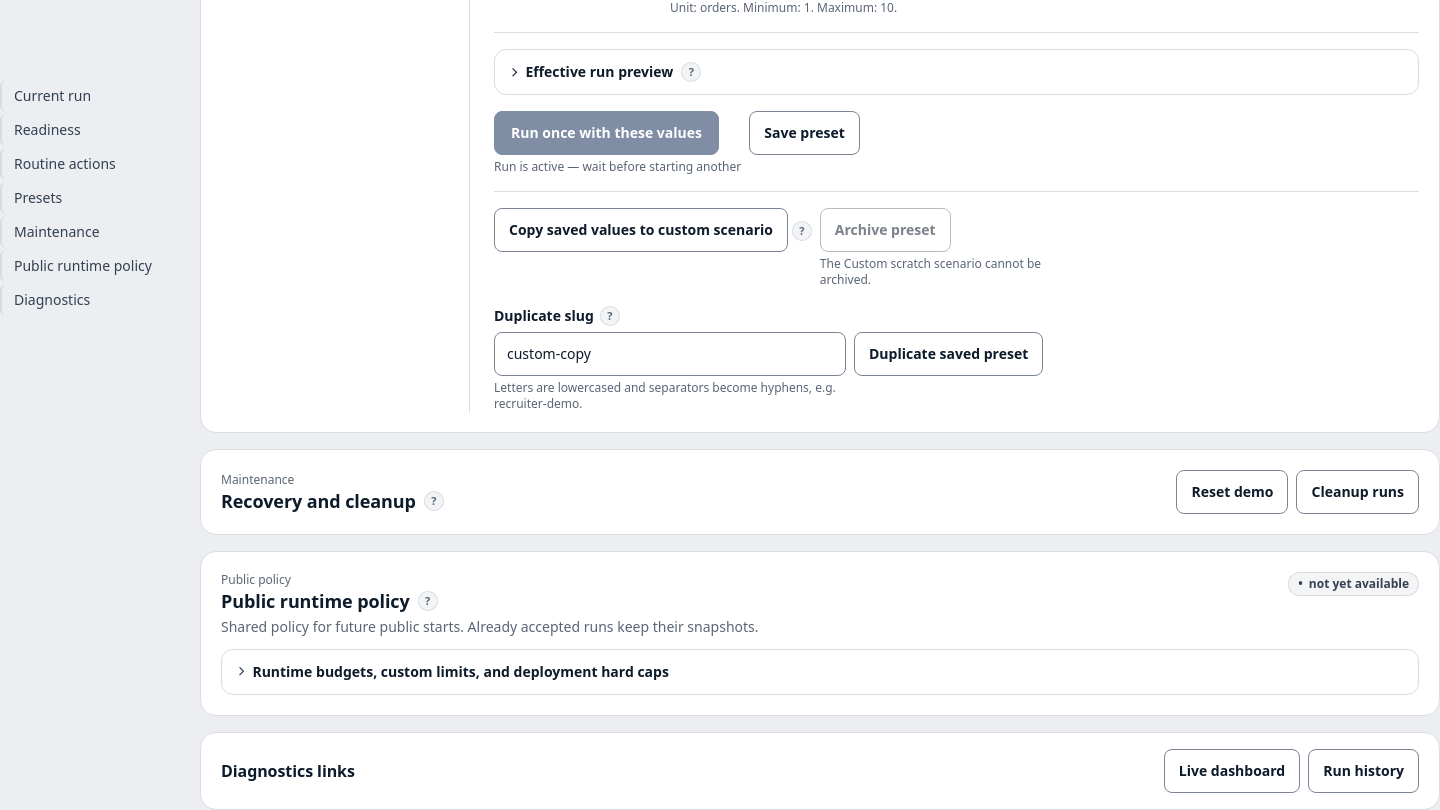
Scenario: admin feature controllers › reconciles recovery even when the reset response is unavailable
(page scrolled)
Click the button "Reset demo" at coordinates (1232, 492), box [1176,470,1288,514]
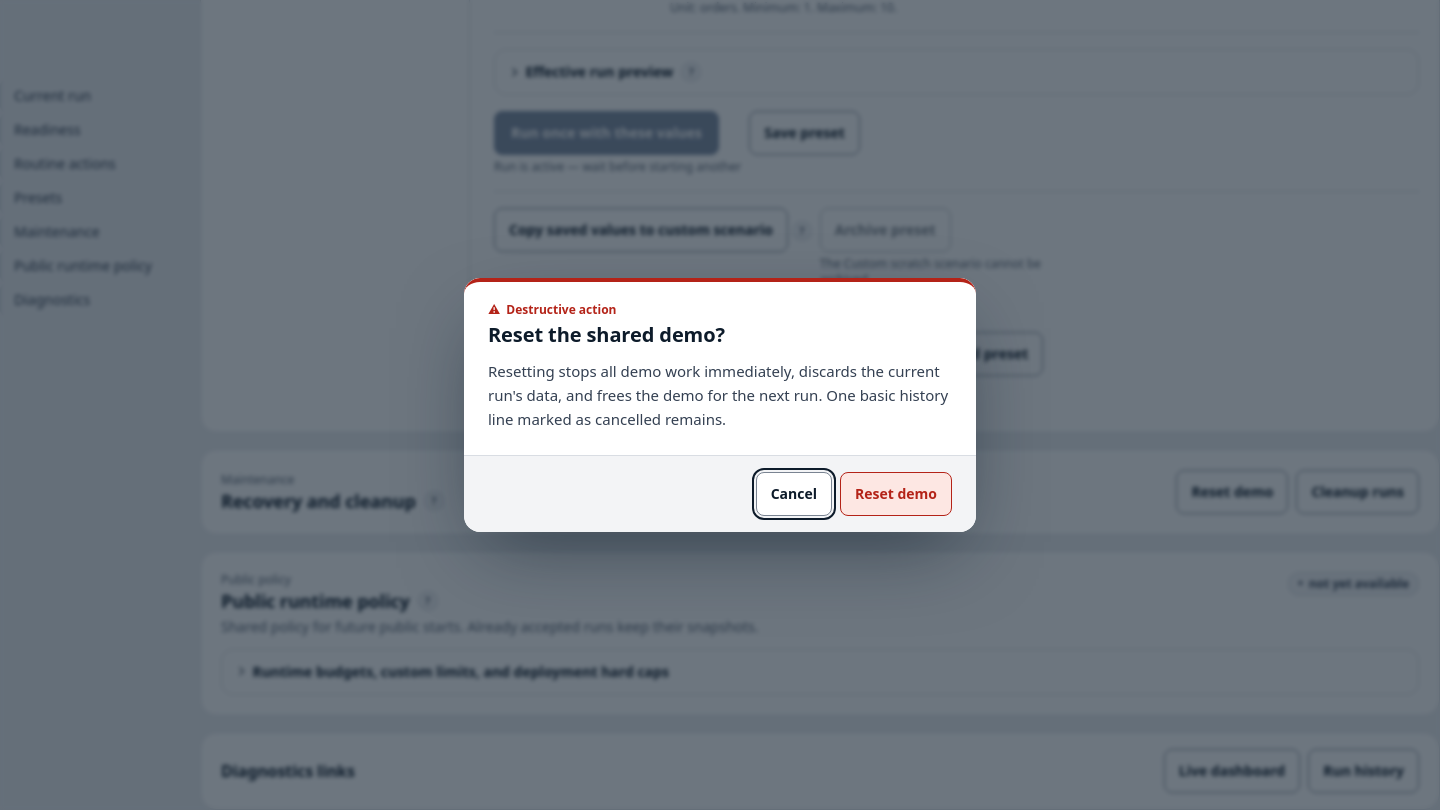
Click the button "Reset demo" at coordinates (896, 494), box [840,472,952,516]
(page scrolled)
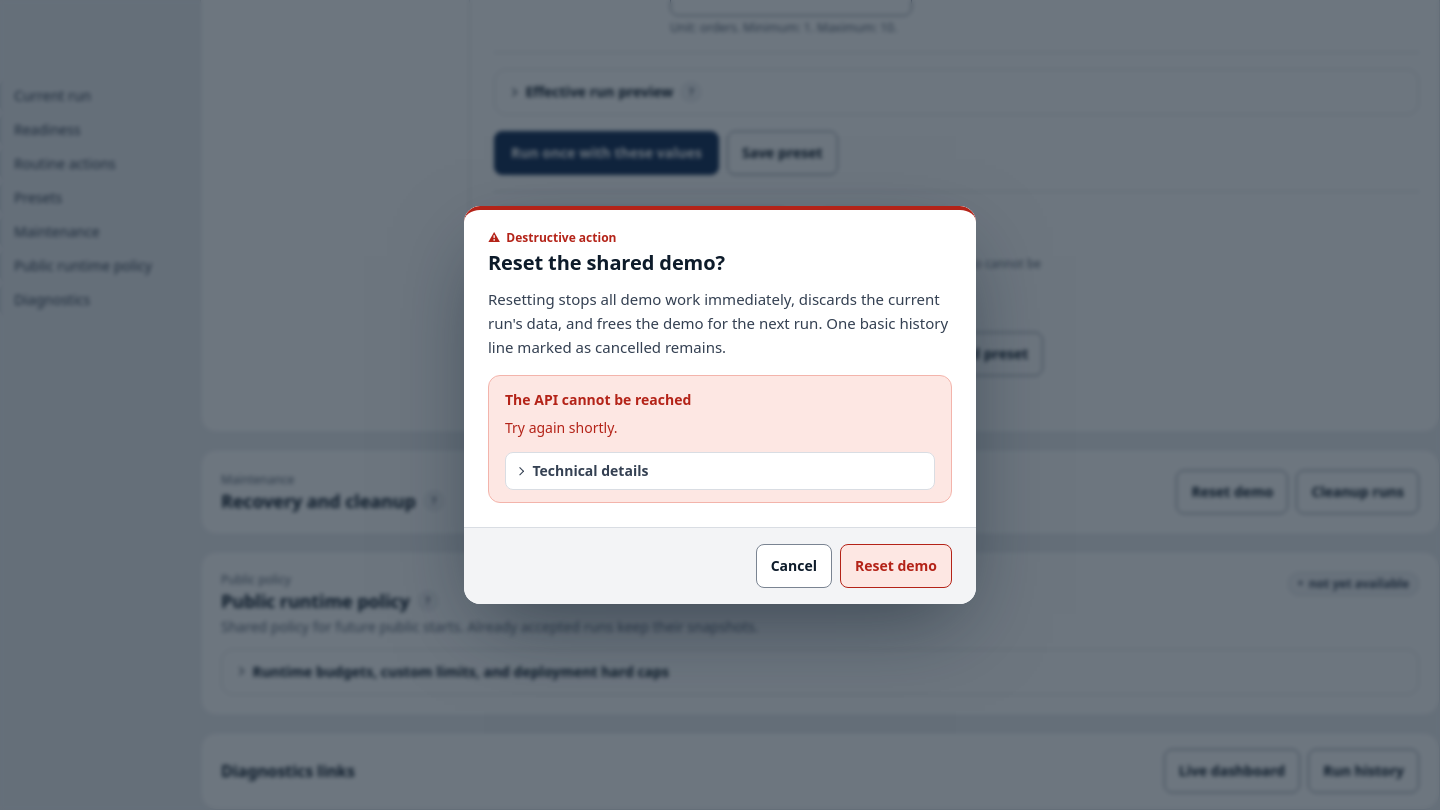
Now the button "Run once with these values" is enabled, box [494,131,719,175]
